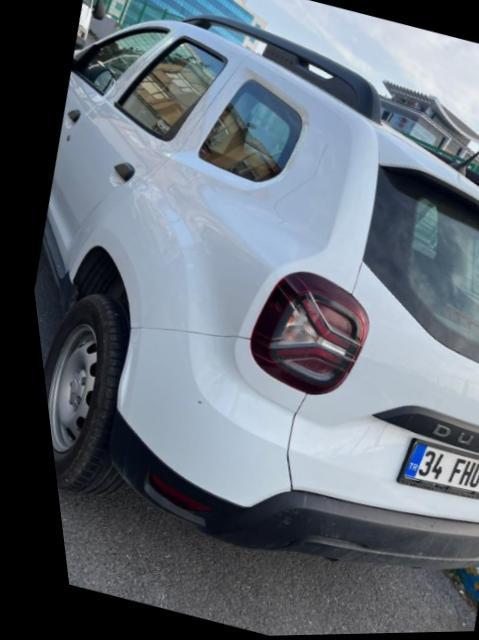scratch: (184, 398, 194, 405)
